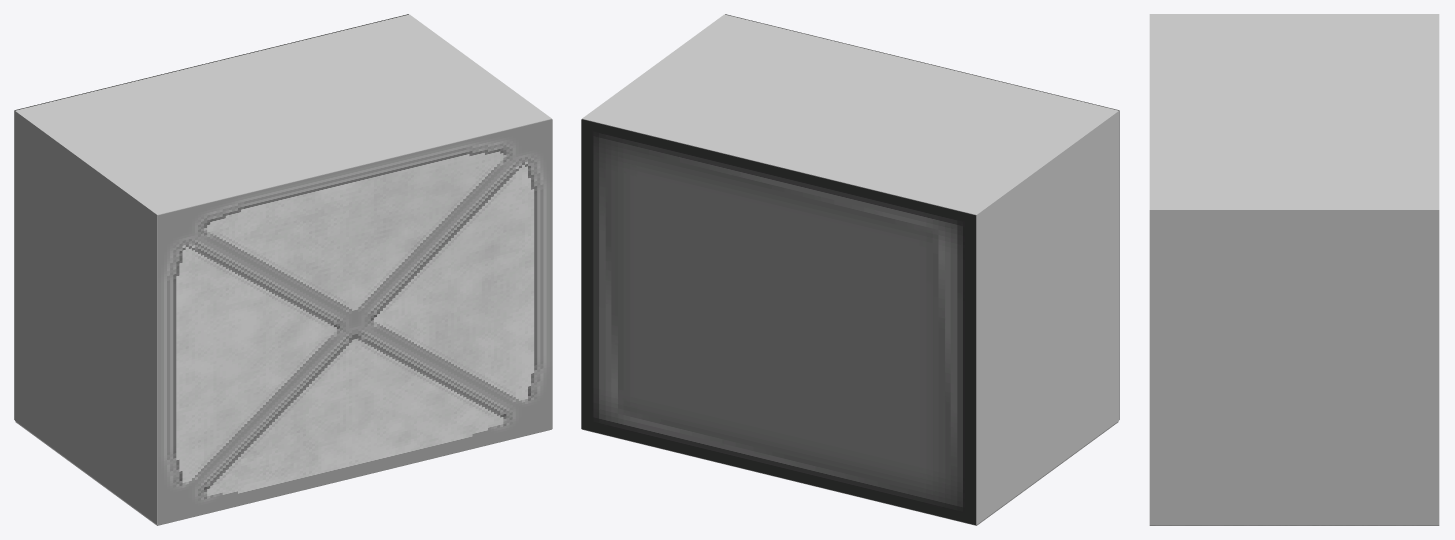
The model's file is chemicalsynthiser.obj.
The picture shows the model from 3 angles, left to right: view 1: azimuth 30°, elevation 25°; view 2: azimuth 150°, elevation 25°; view 3: azimuth 270°, elevation 25°; orthographic projection.
Parts seen in each view (by area): view 1: Chemicalsynthiser4, Chemicalsynthiser1, Chemicalsynthiser3, Chemicalsynthiser2; view 2: Chemicalsynthiser3, Chemicalsynthiser1, Chemicalsynthiser4, Chemicalsynthiser2; view 3: Chemicalsynthiser1.
Part boxes in pixels (x1,y1,x2,y2): Chemicalsynthiser4: (158, 119, 552, 525); Chemicalsynthiser1: (15, 14, 551, 524); Chemicalsynthiser3: (14, 14, 408, 419); Chemicalsynthiser2: (15, 421, 551, 525); Chemicalsynthiser3: (581, 119, 975, 525); Chemicalsynthiser1: (582, 14, 1118, 524); Chemicalsynthiser4: (725, 14, 1119, 419); Chemicalsynthiser2: (582, 421, 1118, 525); Chemicalsynthiser1: (1149, 14, 1439, 524).
Bounding box in the file's own units: 8 × 6.02 × 5.04.
4 materials, 3 textured.
